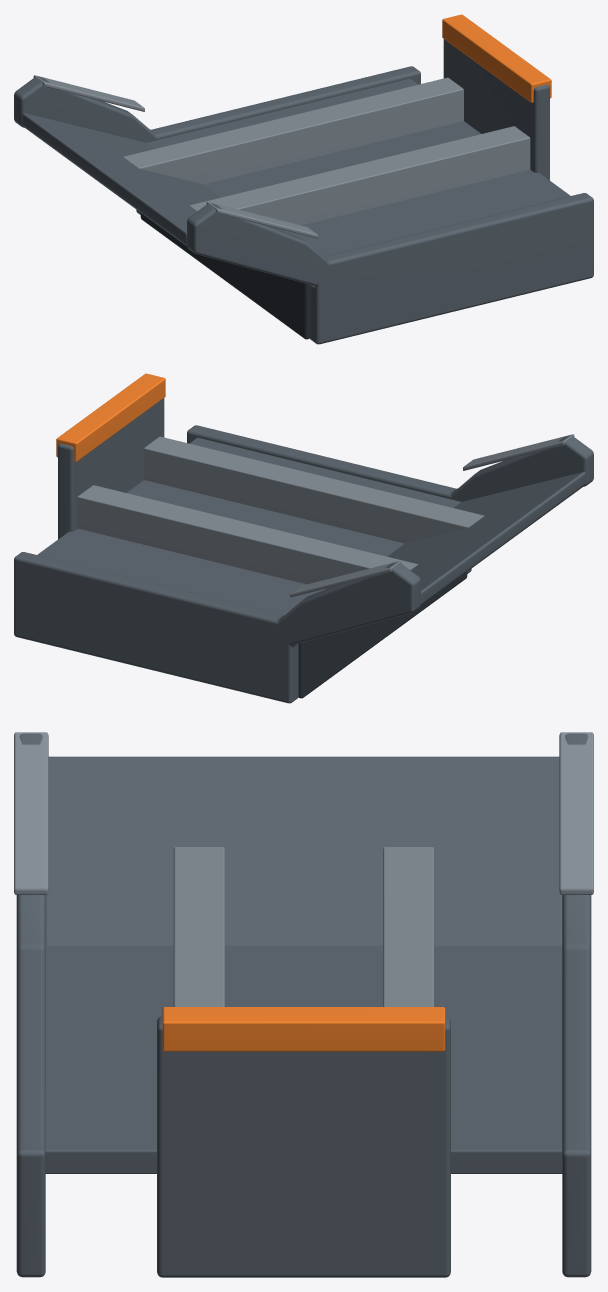
The model's file is tray_orange.glb.
The picture shows the model from 3 angles, top to bottom: view 1: azimuth 30°, elevation 25°; view 2: azimuth 150°, elevation 25°; view 3: azimuth 270°, elevation 25°; orthographic projection. The views are drawn at different scales.
Visible parts, largest first — view 1: Боковина, Дно поддона, Опорная лыжа.001, Опорная лыжа, Скат, Боковина.001, Торцевой упор, Передняя стенка шахты, Эмаль на торце, Накладка направляющей, Накладка направляющей.001; view 2: Боковина.001, Дно поддона, Опорная лыжа, Опорная лыжа.001, Скат, Боковина, Торцевой упор, Передняя стенка шахты, Эмаль на торце, Накладка направляющей.001, Накладка направляющей; view 3: Скат, Торцевой упор, Дно поддона, Эмаль на торце, Боковина, Боковина.001, Опорная лыжа, Опорная лыжа.001, Накладка направляющей, Накладка направляющей.001.
Boxes of the visible parts, x1=… form: Боковина: x1=187, y1=193, x2=593, y2=344; Дно поддона: x1=146, y1=78, x2=570, y2=256; Опорная лыжа.001: x1=123, y1=77, x2=463, y2=184; Опорная лыжа: x1=190, y1=126, x2=530, y2=229; Скат: x1=22, y1=113, x2=220, y2=245; Боковина.001: x1=14, y1=66, x2=420, y2=214; Торцевой упор: x1=443, y1=39, x2=549, y2=180; Передняя стенка шахты: x1=140, y1=213, x2=309, y2=339; Эмаль на торце: x1=442, y1=14, x2=551, y2=102; Накладка направляющей: x1=206, y1=201, x2=317, y2=238; Накладка направляющей.001: x1=33, y1=75, x2=144, y2=111; Боковина.001: x1=14, y1=552, x2=420, y2=703; Дно поддона: x1=37, y1=437, x2=461, y2=615; Опорная лыжа: x1=144, y1=436, x2=484, y2=543; Опорная лыжа.001: x1=77, y1=485, x2=417, y2=588; Скат: x1=387, y1=472, x2=585, y2=604; Боковина: x1=187, y1=425, x2=593, y2=573; Торцевой упор: x1=58, y1=398, x2=164, y2=539; Передняя стенка шахты: x1=298, y1=572, x2=467, y2=698; Эмаль на торце: x1=56, y1=373, x2=165, y2=461; Накладка направляющей.001: x1=290, y1=560, x2=401, y2=597; Накладка направляющей: x1=463, y1=434, x2=574, y2=470; Скат: x1=45, y1=756, x2=562, y2=946; Торцевой упор: x1=157, y1=1016, x2=450, y2=1277; Дно поддона: x1=45, y1=946, x2=562, y2=1173; Эмаль на торце: x1=162, y1=1007, x2=445, y2=1051; Боковина: x1=16, y1=733, x2=45, y2=1277; Боковина.001: x1=562, y1=733, x2=591, y2=1277; Опорная лыжа: x1=173, y1=847, x2=224, y2=1006; Опорная лыжа.001: x1=383, y1=847, x2=434, y2=1006; Накладка направляющей: x1=14, y1=732, x2=48, y2=894; Накладка направляющей.001: x1=559, y1=732, x2=593, y2=894.
Bounding box in the file's own units: 0.66 × 0.257 × 0.521.
